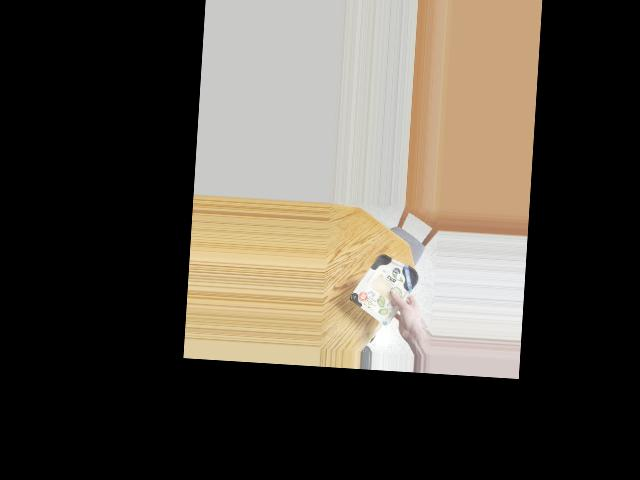cheese: (354, 247, 420, 318)
